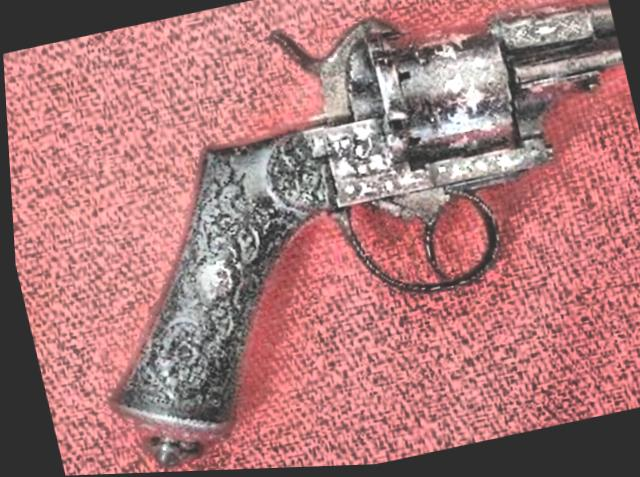pistol: (30, 0, 640, 476)
